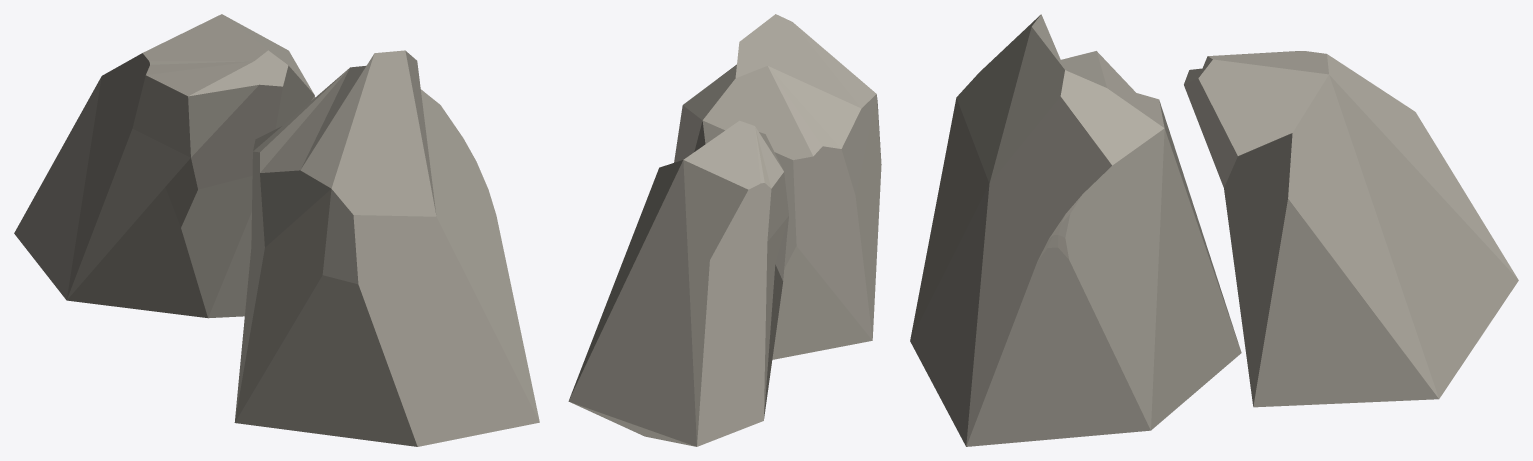
The model's file is Rock_2.fbx.
3 views of the same model, side by side, from view 1: azimuth 30°, elevation 25°; view 2: azimuth 150°, elevation 25°; view 3: azimuth 270°, elevation 25° (orthographic). The views are drawn at different scales.
Parts seen in each view (by area): view 1: Icosphere; view 2: Icosphere; view 3: Icosphere.
Boxes of the visible parts, box(x1,y1,x2,y2) form: Icosphere: box(14, 14, 539, 446); Icosphere: box(568, 14, 881, 446); Icosphere: box(910, 14, 1518, 446).
Size of the model in its own units: 3.71 by 5.02 by 7.46.
